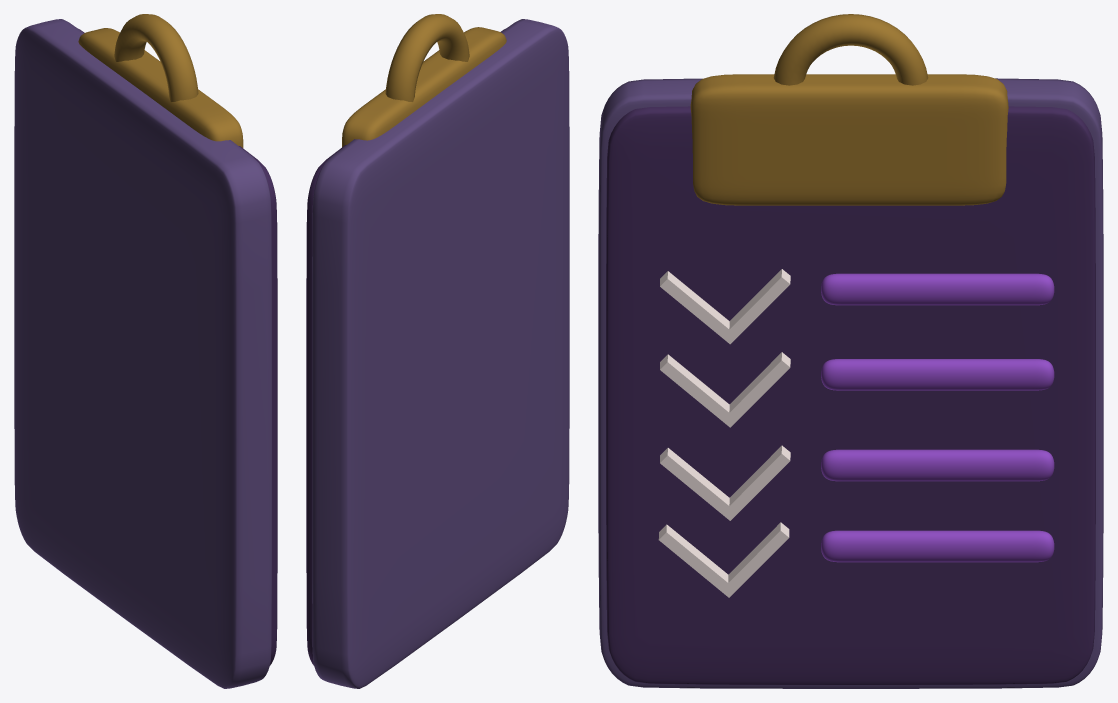
Rendered from check_mark.glb.
3 views of the same model, side by side, from view 1: azimuth 30°, elevation 25°; view 2: azimuth 150°, elevation 25°; view 3: azimuth 270°, elevation 25° (orthographic). The views are drawn at different scales.
Visible parts, largest first — view 1: Object_3, Object_6, Object_2; view 2: Object_3, Object_6, Object_2; view 3: Object_2, Object_6, Object_4, Object_3, Object_7, Object_5.
Part boxes in pixels (<box>): Object_3: <box>14,19,271,688</box>; Object_6: <box>78,14,243,147</box>; Object_2: <box>79,29,277,665</box>; Object_3: <box>312,19,569,688</box>; Object_6: <box>342,14,506,146</box>; Object_2: <box>306,29,504,665</box>; Object_2: <box>606,106,1095,684</box>; Object_6: <box>690,14,1008,205</box>; Object_4: <box>821,273,1054,481</box>; Object_3: <box>598,78,1103,688</box>; Object_7: <box>658,269,790,597</box>; Object_5: <box>821,530,1054,562</box>.
Size of the model in its own units: 0.2688 by 2.26 by 1.54.
